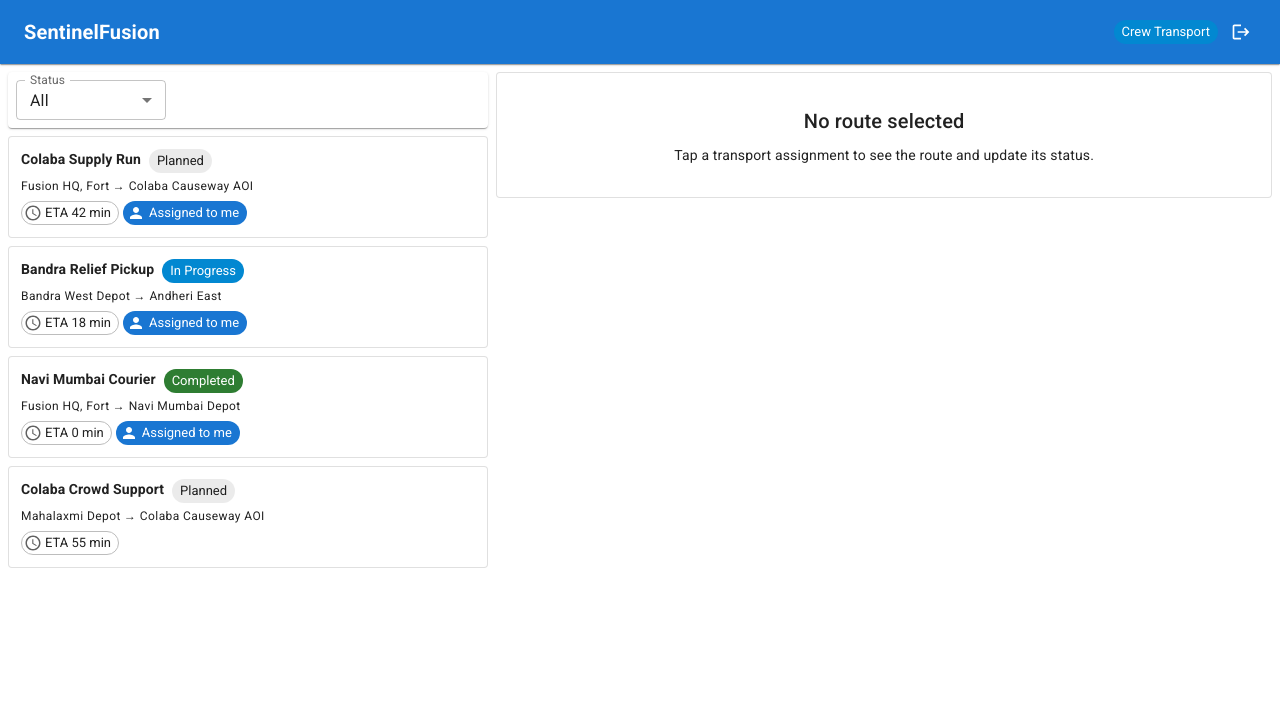
it: CrewTransportView › filters assignments by status
Check: the heading "Colaba Supply Run" is shown, box x1=21 y1=149 x2=141 y2=173
Press the mouse on the dropdown named "Status" at (39, 100), box x1=30 y1=90 x2=49 y2=110
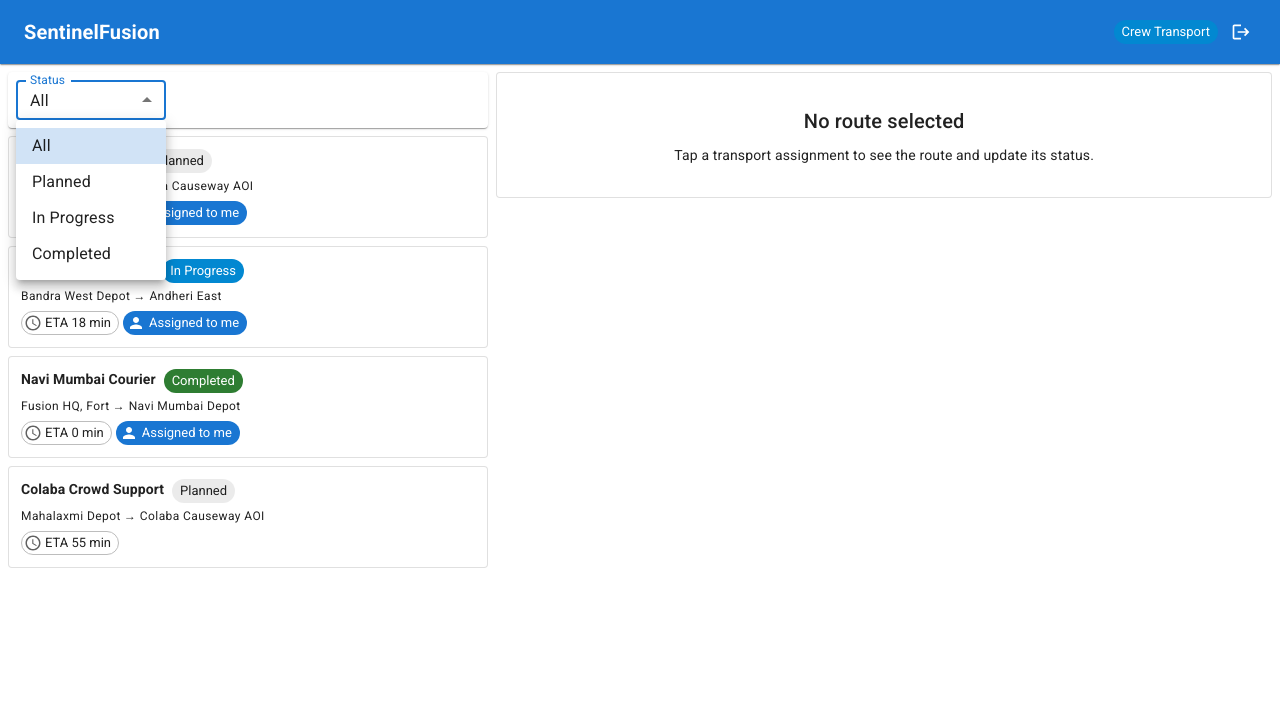
Click the option "Completed" at (72, 254), box x1=32 y1=244 x2=111 y2=263
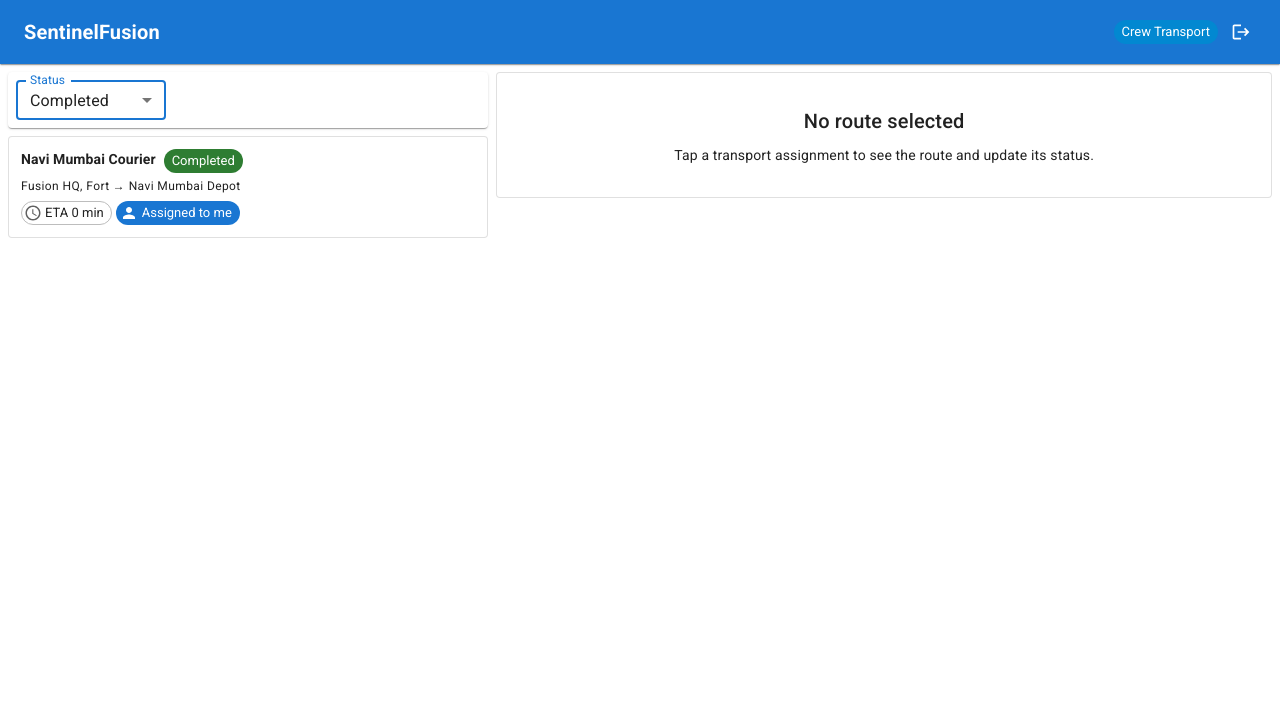
Check: the heading "Navi Mumbai Courier" is shown, box x1=21 y1=149 x2=156 y2=173
Check: the button "Colaba Supply Run" is gone
Check: the button "Bandra Relief Pickup" is gone
